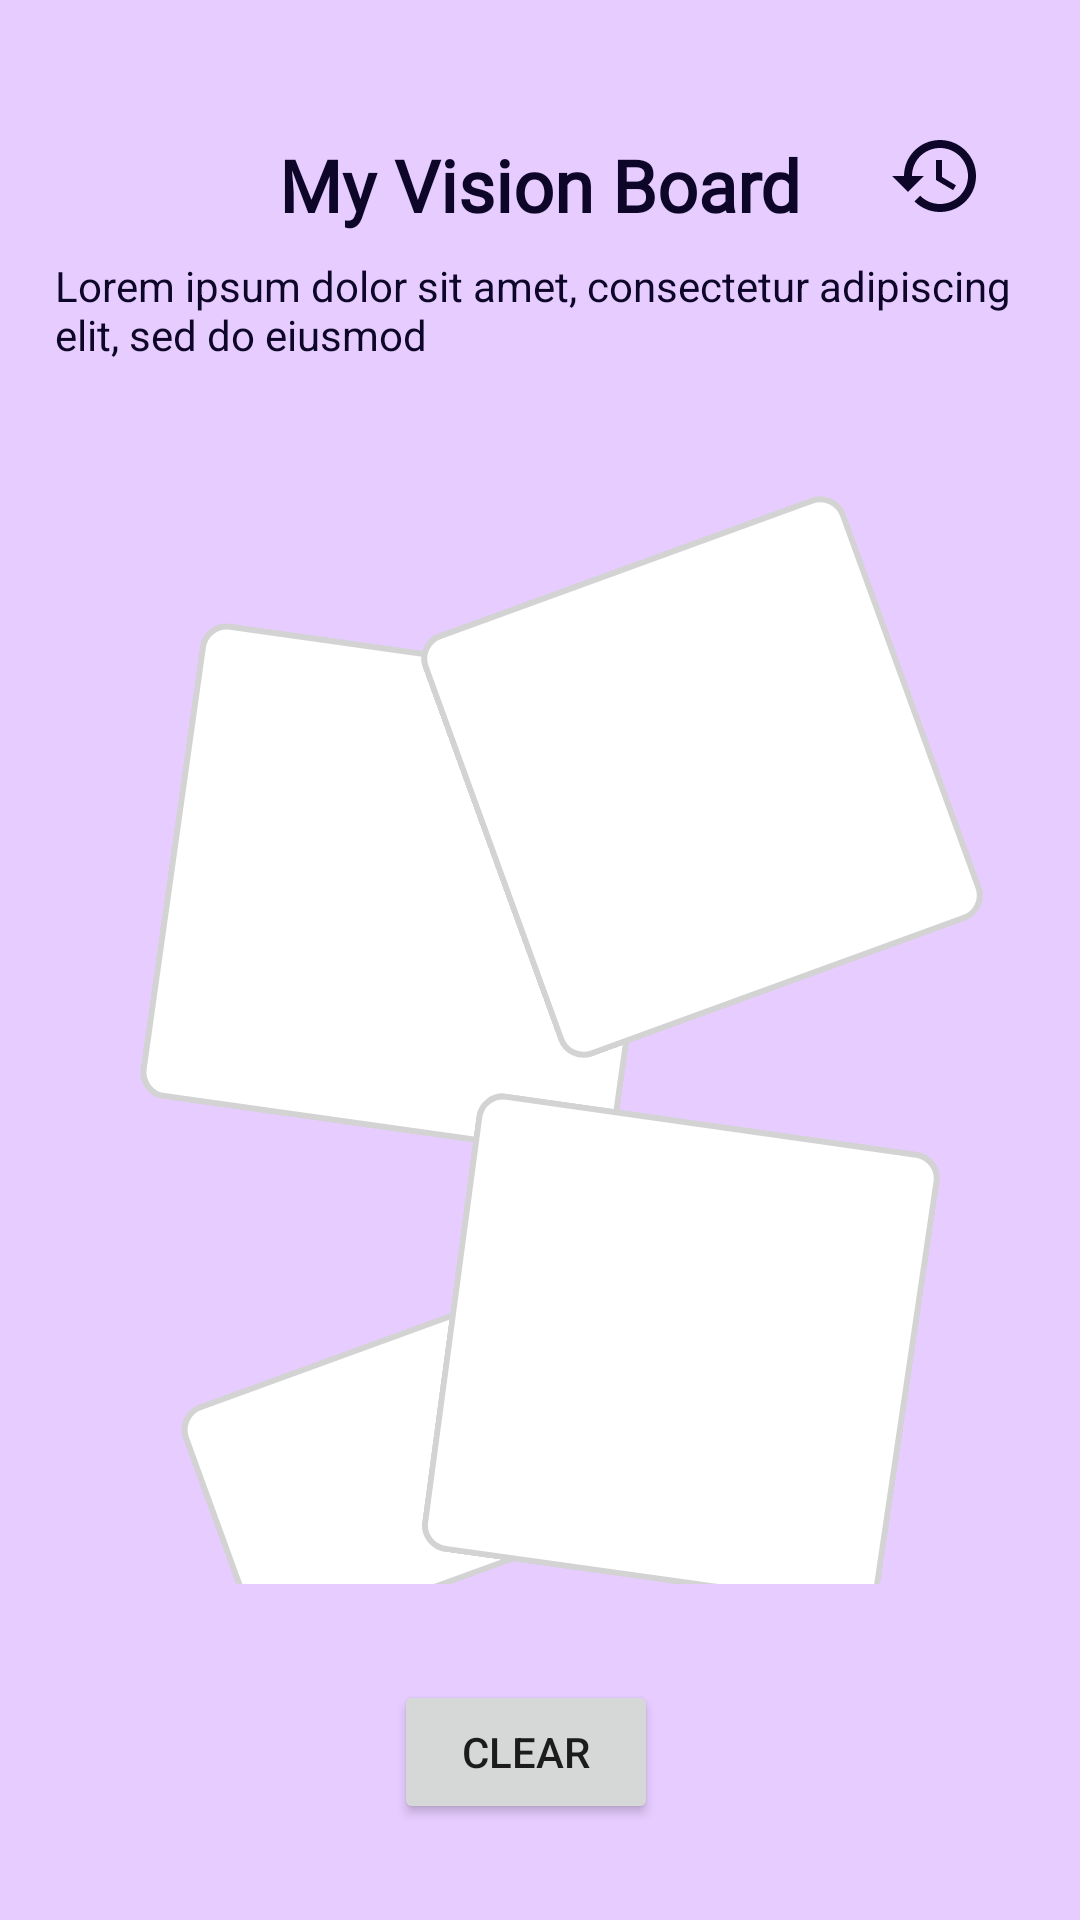

Locate icon controls on the screen. Image size 1080 × 1920, boxes as (x1, y1, x2, y2).
History Button: (892, 140, 976, 212)
